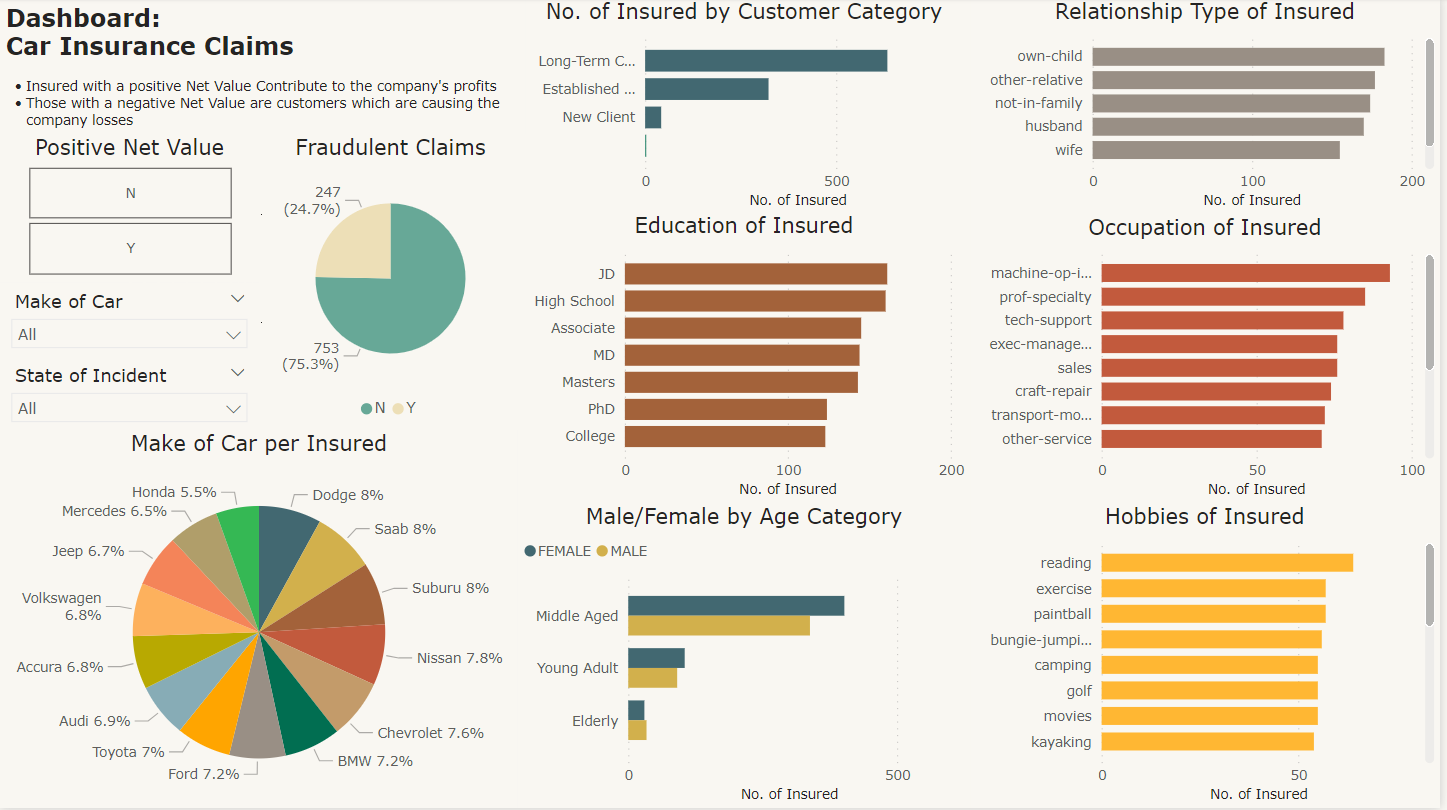

The page's visual inventory and layout, read from the dashboard file:
{"tool":"powerbi","page":{"name":"Summary","canvas":[1280,720],"ordinal":0},"visuals":[{"type":"clusteredBarChart","title":"Occupation of Insured","fields":{"Category":["Advanced Features Claims Data (2).insured_occupation"],"Y":["CountNonNull(Advanced Features Claims Data (2).policy_number)"]},"box":[862.1,192,417.6,257.2],"z":0},{"type":"clusteredBarChart","title":"Hobbies of Insured","fields":{"Category":["Advanced Features Claims Data (2).insured_hobbies"],"Y":["CountNonNull(Advanced Features Claims Data (2).policy_number)"]},"box":[862.1,449.2,417.6,271.2],"z":1000},{"type":"pieChart","title":"Fraudulent Claims","fields":{"Y":["CountNonNull(Advanced Features Claims Data (2).policy_number)"],"Category":["Advanced Features Claims Data (2).fraud_reported"]},"box":[233.8,120.9,226.7,263.1],"z":2000},{"type":"barChart","title":"Education of Insured","fields":{"Category":["Advanced Features Claims Data (2).insured_education_level"],"Y":["CountNonNull(Advanced Features Claims Data (2).Positive_Net_Value)"]},"box":[460.4,190.1,401.7,259.1],"z":3000},{"type":"clusteredBarChart","title":"Relationship Type of Insured","fields":{"Y":["CountNonNull(Advanced Features Claims Data (2).policy_number)"],"Category":["Advanced Features Claims Data (2).insured_relationship"]},"box":[862.1,0,417.6,192],"z":4000},{"type":"clusteredBarChart","title":"Male/Female by Age Category","fields":{"Category":["Advanced Features Claims Data (2).ages_category"],"Y":["CountNonNull(Advanced Features Claims Data (2).policy_number)"],"Series":["Advanced Features Claims Data (2).insured_sex"]},"box":[460.4,449.2,401.7,271.2],"z":5000},{"type":"clusteredBarChart","title":"No. of Insured by Customer Category","fields":{"Y":["CountNonNull(Advanced Features Claims Data (2).policy_number)"],"Category":["Advanced Features Claims Data (2).customer_category"]},"box":[460.4,0,401.7,192],"z":6000},{"type":"slicer","fields":{"Values":["Advanced Features Claims Data (2).auto_make"]},"box":[0,254.2,230.2,66.7],"z":7000},{"type":"slicer","fields":{"Values":["Advanced Features Claims Data (2).incident_state"]},"box":[0,320,230.2,68.4],"z":8000},{"type":"slicer","title":"Positive Net Value","fields":{"Values":["Advanced Features Claims Data (2).Positive_Net_Value"]},"box":[0,120.9,230.2,131.6],"z":10000},{"type":"pieChart","title":"Make of Car per Insured","fields":{"Y":["CountNonNull(Advanced Features Claims Data (2).policy_number)"],"Category":["Advanced Features Claims Data (2).auto_make"]},"box":[0,384,460.4,336.5],"z":11000},{"type":"textbox","box":[0,0,466.7,120.9],"z":12000}]}

Visuals, with their boxes in screenshot pixels (x1, y1, x2, y2), scaled from the page's 1280x720 canvas onto the 1447x810 screenshot:
"Occupation of Insured" clusteredBarChart: x1=975, y1=216, x2=1446, y2=505
"Hobbies of Insured" clusteredBarChart: x1=975, y1=505, x2=1446, y2=809
"Fraudulent Claims" pieChart: x1=264, y1=136, x2=521, y2=432
"Education of Insured" barChart: x1=520, y1=214, x2=975, y2=505
"Relationship Type of Insured" clusteredBarChart: x1=975, y1=0, x2=1446, y2=216
"Male/Female by Age Category" clusteredBarChart: x1=520, y1=505, x2=975, y2=809
"No. of Insured by Customer Category" clusteredBarChart: x1=520, y1=0, x2=975, y2=216
slicer - Advanced Features Claims Data (2).auto_make: x1=0, y1=286, x2=260, y2=361
slicer - Advanced Features Claims Data (2).incident_state: x1=0, y1=360, x2=260, y2=437
"Positive Net Value" slicer: x1=0, y1=136, x2=260, y2=284
"Make of Car per Insured" pieChart: x1=0, y1=432, x2=520, y2=809
textbox: x1=0, y1=0, x2=528, y2=136
